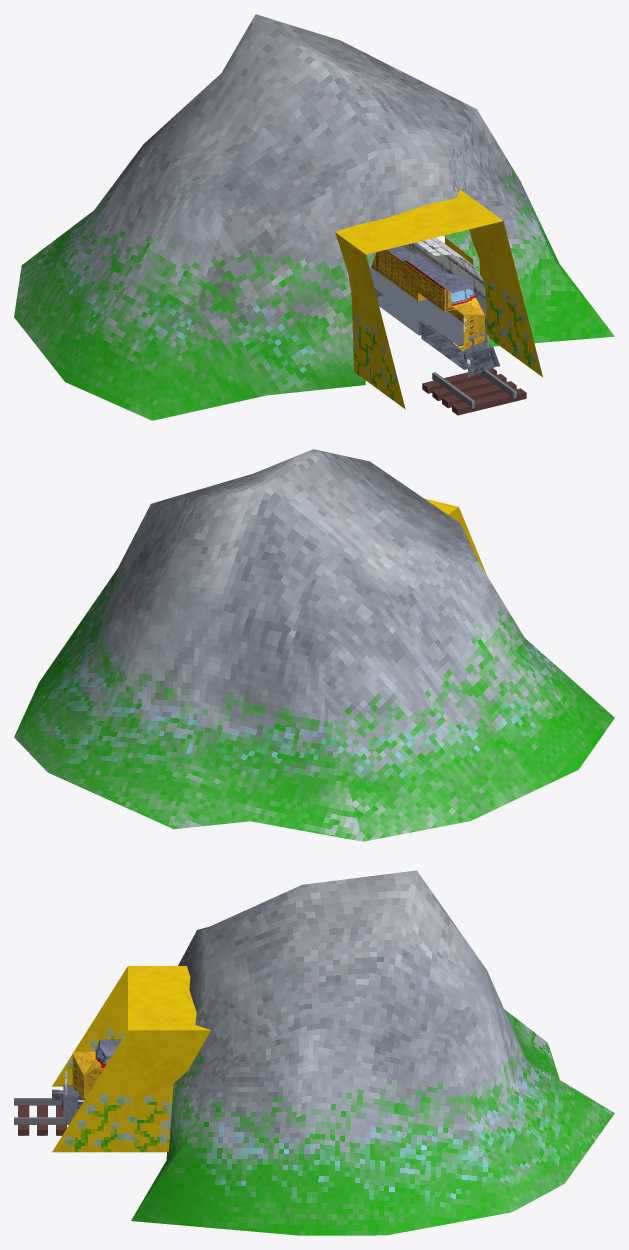
The model's file is tunnel.blend.glb.
3 views of the same model, one above another, from view 1: azimuth 30°, elevation 25°; view 2: azimuth 150°, elevation 25°; view 3: azimuth 270°, elevation 25° (orthographic). The views are drawn at different scales.
Parts seen in each view (by area): view 1: Plane.001, Cube, locomotive, strait, Plane, loco-front-truck; view 2: Plane.001, Cube; view 3: Plane.001, Cube, locomotive, strait.
Part boxes in pixels (x1,y1,x2,y2): Plane.001: (14,14,614,420); Cube: (335,189,542,409); locomotive: (370,246,499,366); strait: (422,368,526,415); Plane: (402,237,486,337); loco-front-truck: (421,321,496,376); Plane.001: (14,449,614,841); Cube: (424,498,486,574); Plane.001: (131,870,614,1235); Cube: (52,966,210,1152); locomotive: (63,1039,121,1119); strait: (14,1098,71,1135).
Size of the model in its own units: 14.33 by 7.34 by 15.83.
Materials: 5 (5 with a texture image).
